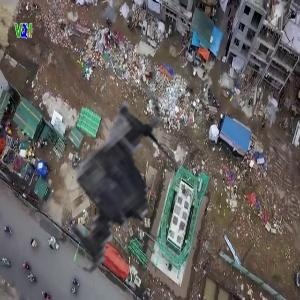drone: (16, 87, 214, 285)
